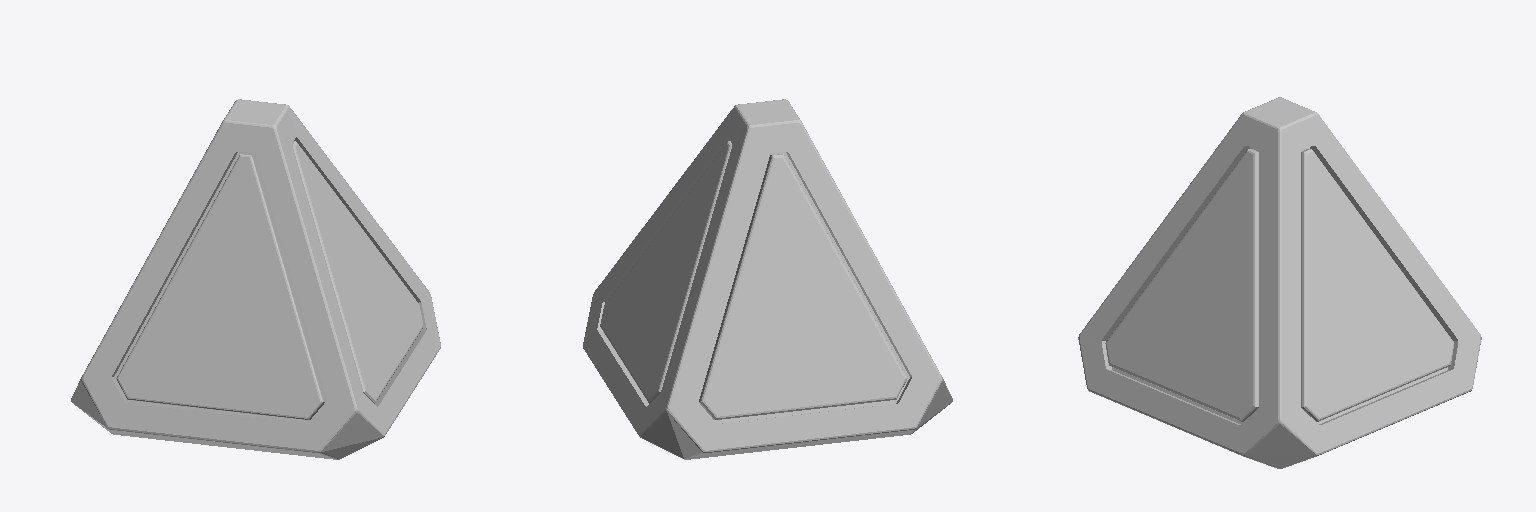
The model's file is Key.obj.
The picture shows the model from 3 angles: view 1: azimuth 30°, elevation 25°; view 2: azimuth 150°, elevation 25°; view 3: azimuth 270°, elevation 25°; orthographic projection.
Parts seen in each view (by area): view 1: Cone; view 2: Cone; view 3: Cone.
Boxes of the visible parts, <box> form: Cone: <box>71,99,440,459</box>; Cone: <box>583,99,952,459</box>; Cone: <box>1078,97,1481,468</box>.
Bounding box in the file's own units: 1.75 × 1.37 × 1.75.